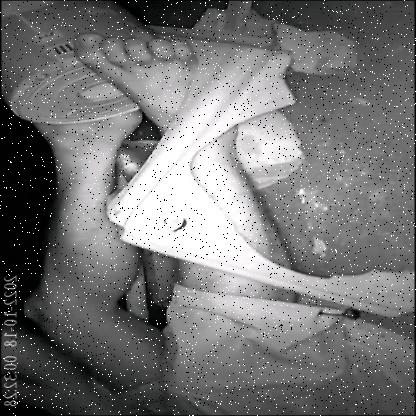leg: (8, 109, 177, 384), (61, 26, 216, 134)
